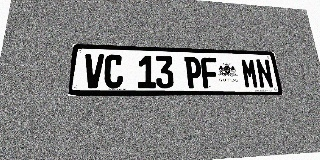1: (138, 55, 156, 88)
3: (156, 56, 174, 88)
C: (104, 54, 123, 88)
F: (201, 57, 219, 88)
M: (240, 58, 259, 88)
N: (255, 59, 274, 88)
P: (184, 57, 203, 88)
V: (83, 54, 104, 88)
